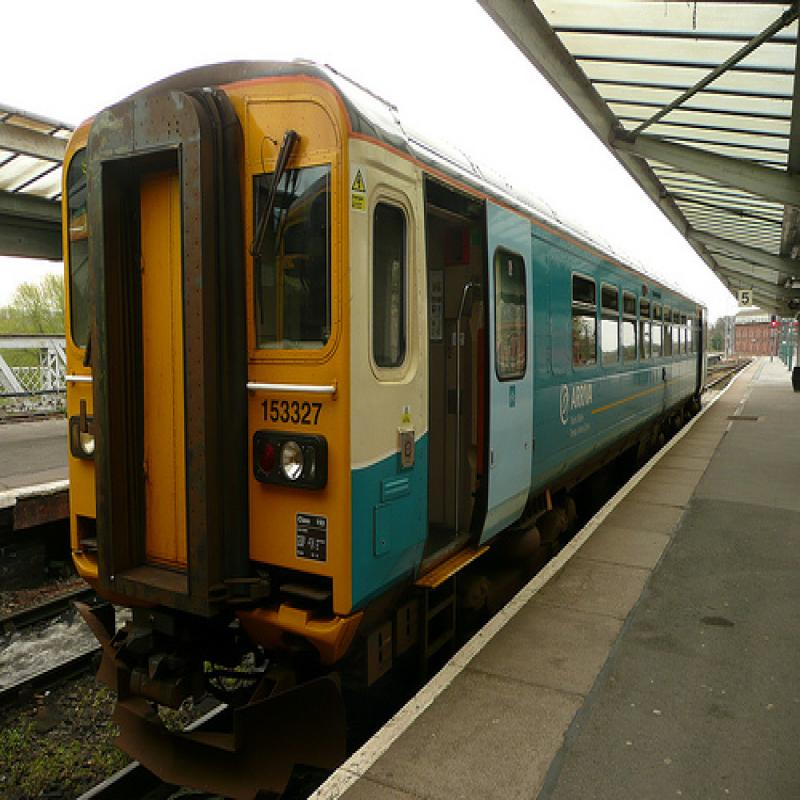train: (63, 54, 713, 799)
